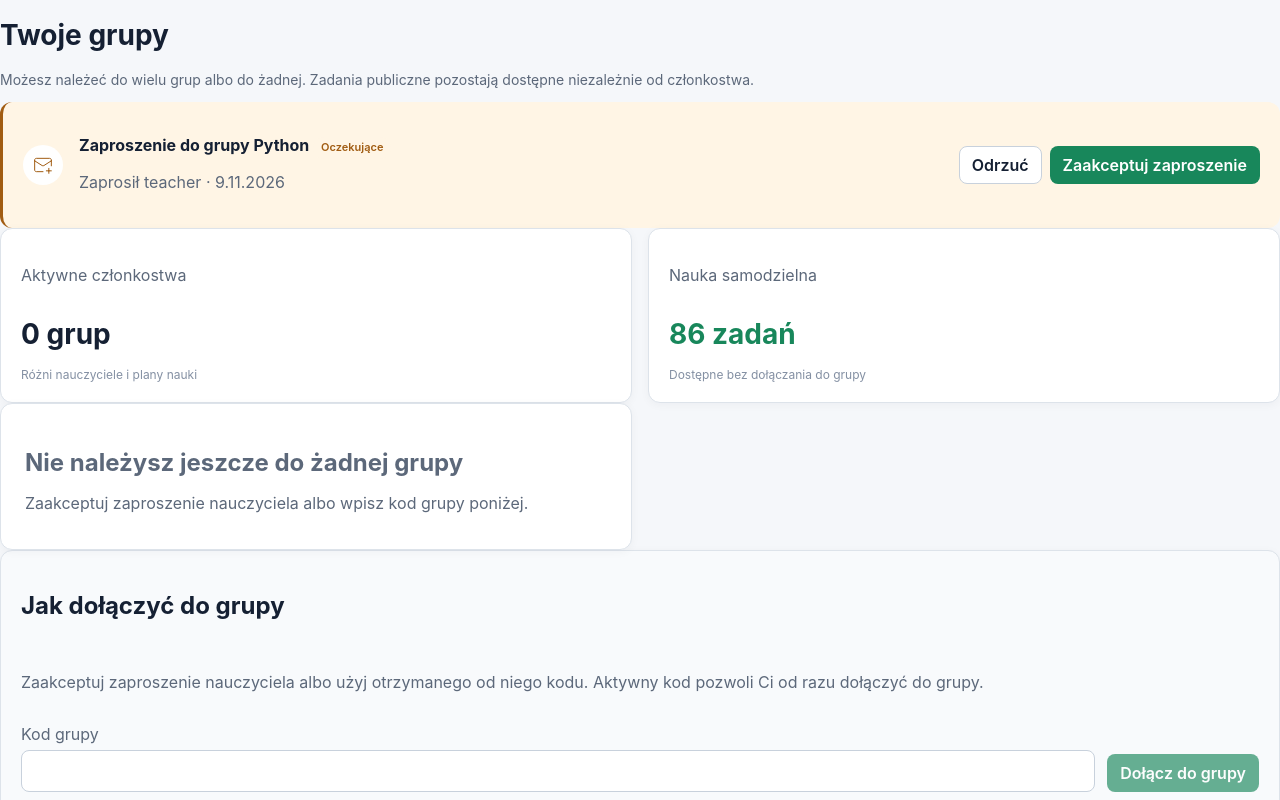
Test: rejects an invitation without gaining membership
The width and height of the screenshot is (1280, 800).
Step 1. Click the button "Odrzuć" → (1000, 165), box [959,146,1042,184]
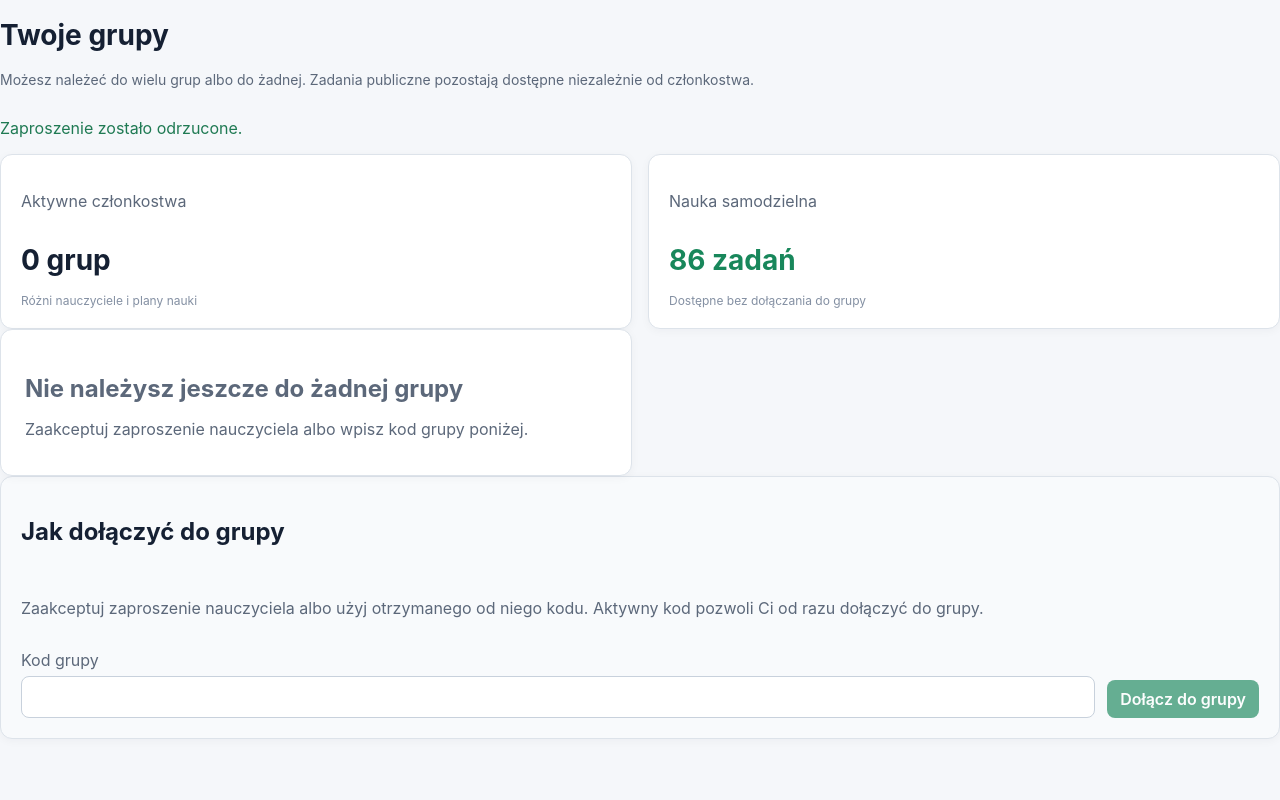
Expected: the heading "Nie należysz jeszcze do żadnej grupy" is shown, [25,374,463,403]
Result: the text "Zaproszenie zostało odrzucone." is shown at [0,118,242,138]
